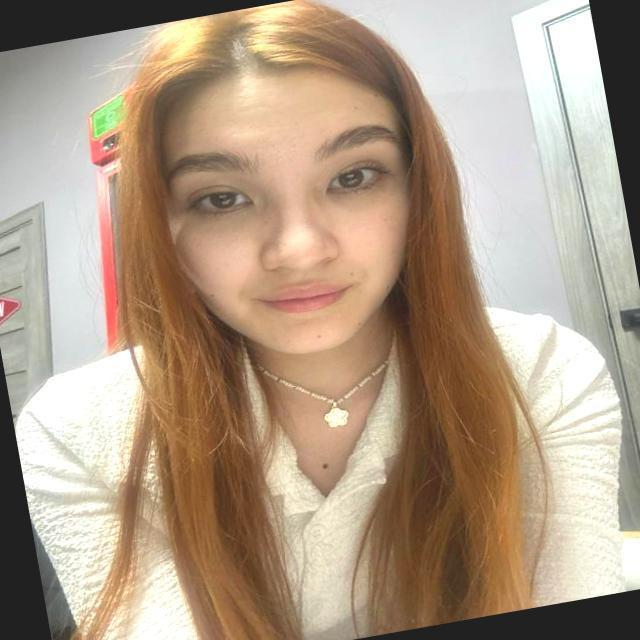blackhead: (267, 148, 300, 167)
